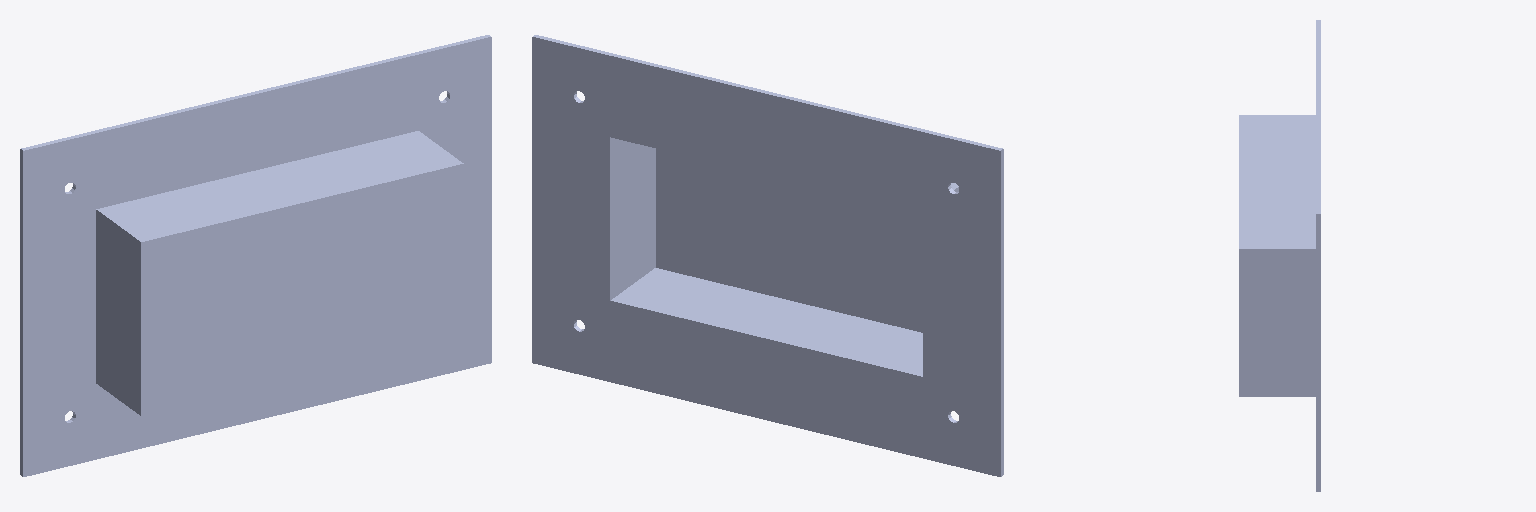
The robot description file, URDF, robot "niot_bins":
<robot
  name="niot_bins">
  <link
    name="niot_bins">
    <inertial>
      <origin
        xyz="0.45 -0.065259 -0.3"
        rpy="0 0 0" />
      <mass
        value="8.1448" />
      <inertia
        ixx="0.246589572294779"
        ixy="-2.18936647929116E-18"
        ixz="9.60360534586064E-17"
        iyy="0.718621918002225"
        iyz="-2.7757310026677E-17"
        izz="0.539649518422871" />
    </inertial>
    <visual>
      <origin
        xyz="0 0 0"
        rpy="1.5707963267949 0 0" />
      <geometry>
        <mesh
          filename="package://niot_bins/meshes/marker dropper bin.STL" />
      </geometry>
      <material
        name="niot_material">
        <color
          rgba="0.79216 0.81961 0.93333 1" />
      </material>
    </visual>
    <collision>
      <origin
        xyz="0 0 0"
        rpy="1.5707963267949 0 0" />
      <geometry>
        <mesh
          filename="package://niot_bins/meshes/marker dropper bin.STL" />
      </geometry>
    </collision>
  </link>
    <gazebo reference="niot_material">
    <material>Gazebo/Blue</material>
  </gazebo>
  <gazebo>
    <static>true</static>
  </gazebo>

</robot>

--- What the picture shows (computed from the rendered views, not written in the file) ---
The picture shows the robot from 3 angles, left to right: view 1: azimuth 30°, elevation 25°; view 2: azimuth 150°, elevation 25°; view 3: azimuth 270°, elevation 25°; orthographic projection.
Model niot_bins with 1 links and 0 joints (none), rooted at niot_bins, posed every joint at zero.
Links seen in each view (by area): view 1: niot_bins; view 2: niot_bins; view 3: niot_bins.
Boxes of the visible links, x1,y1,x2,y2 form: niot_bins: [20, 35, 491, 476]; niot_bins: [532, 35, 1003, 476]; niot_bins: [1239, 20, 1320, 491].
Size in the robot's own frame: 0.9 by 0.16 by 0.6 metres.
Meshes: 1 distinct files referenced, 1 mesh visuals loaded (1 binary STL).
